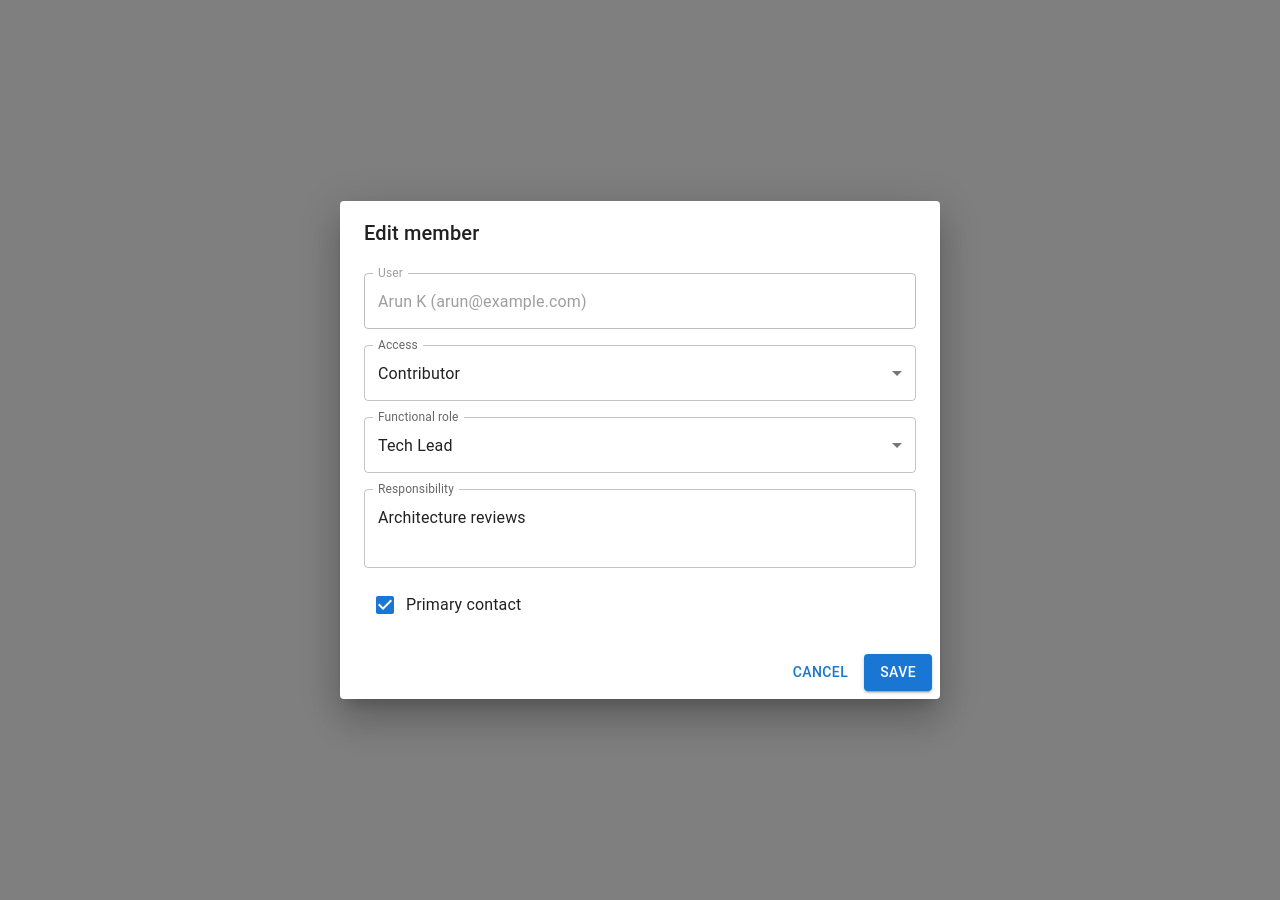
Scenario: TeamMemberDialog functional role select › preserves edit member functional role until an explicit new choice
The width and height of the screenshot is (1280, 900).
Click the dropdown named "functional role": coordinates (415, 445) [378,436,453,455]
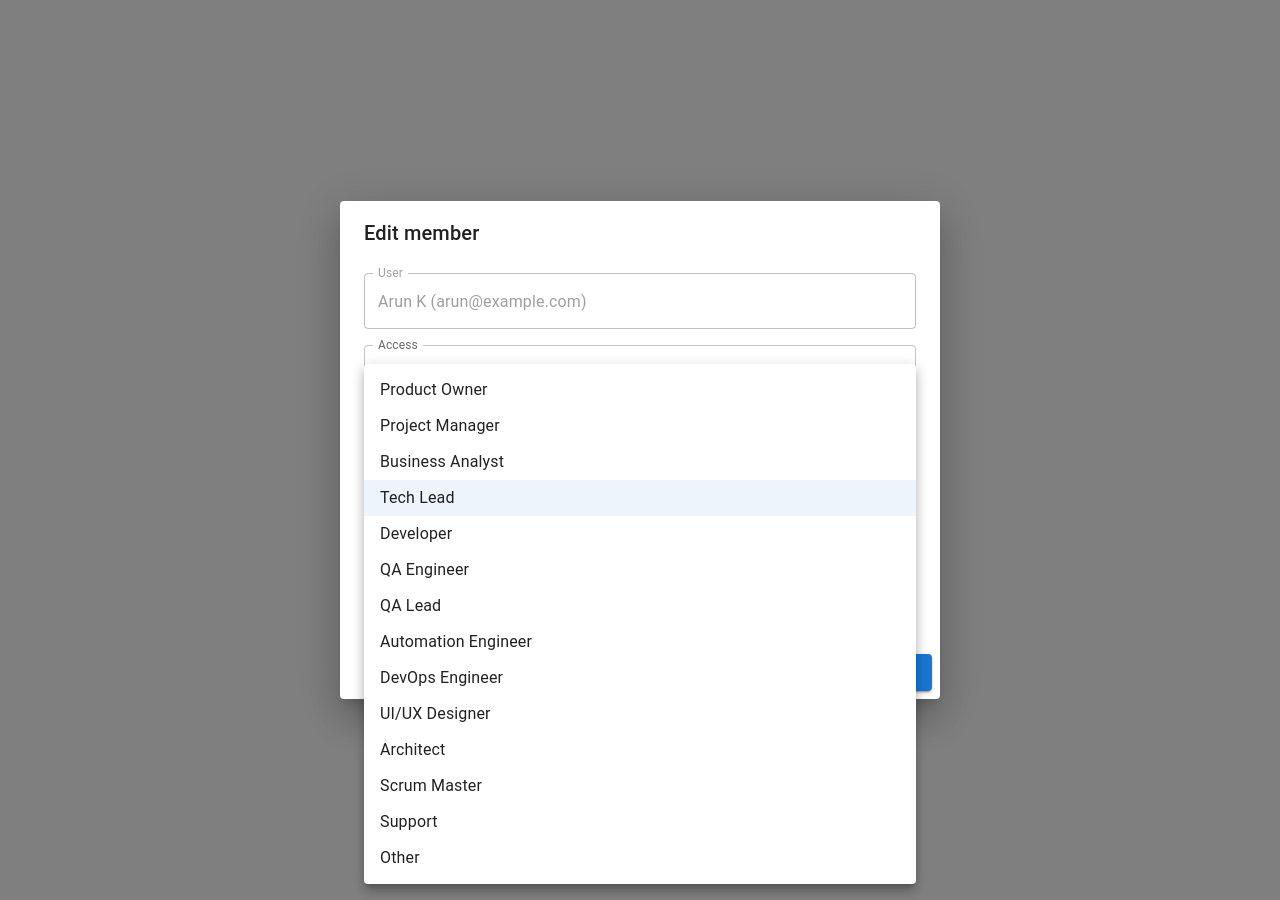
expect the list is shown: met, box [364,364,916,884]
Click the option "Developer": coordinates (416, 534) [380,524,452,543]
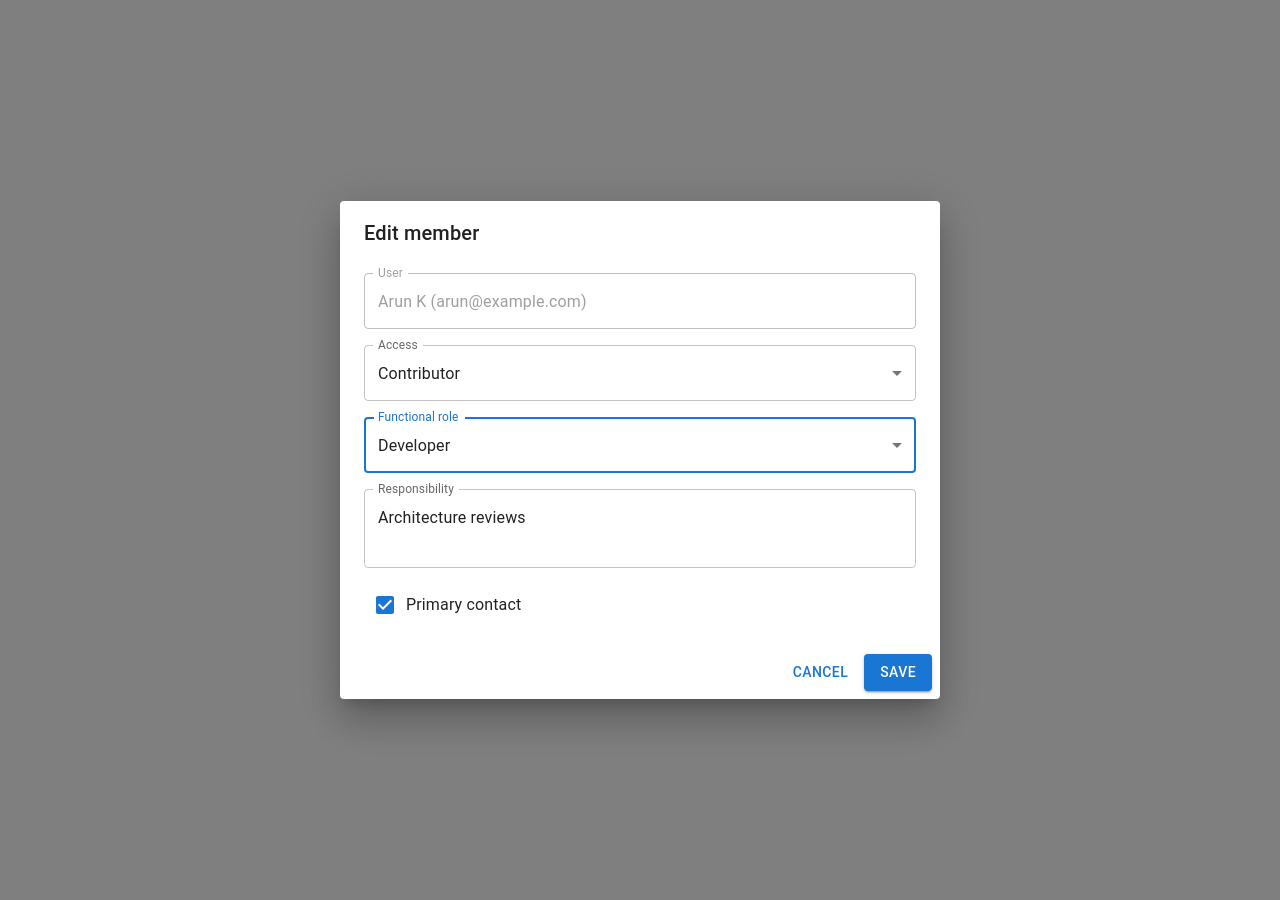
expect the dropdown named "functional role" reads "Developer": met, box [378,436,450,455]
